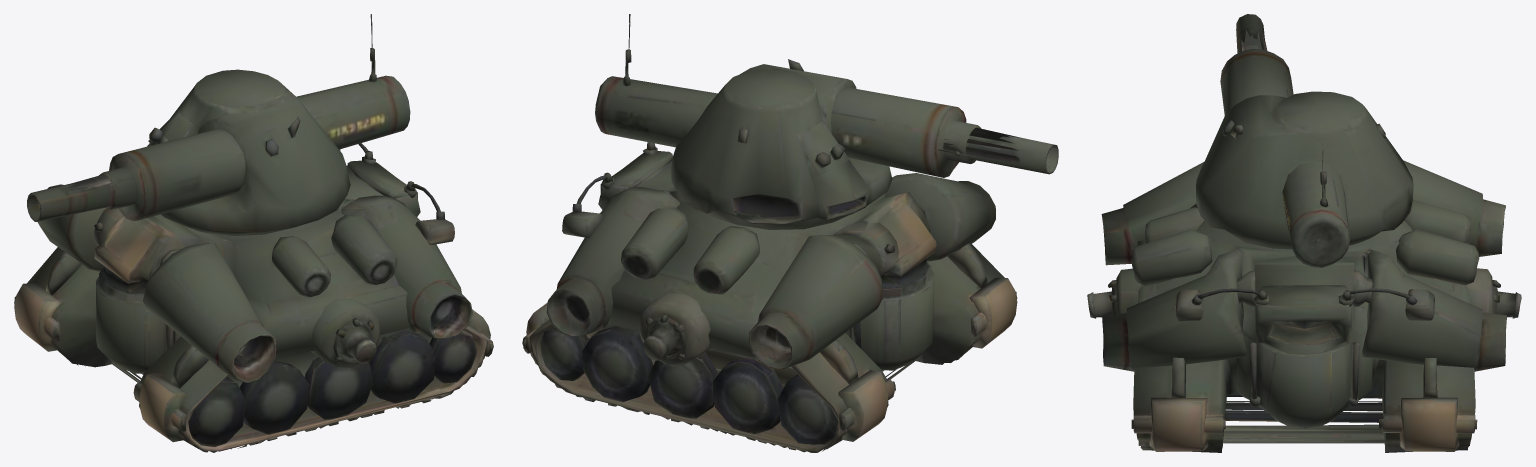
File: t_mortar_2.glb
3 renders of one model, left to right at view 1: azimuth 30°, elevation 25°; view 2: azimuth 150°, elevation 25°; view 3: azimuth 270°, elevation 25°, orthographic. The views are drawn at different scales.
Bounding box in the file's own units: 0.9536 × 0.7036 × 0.8594.
1 material, 1 textured.
